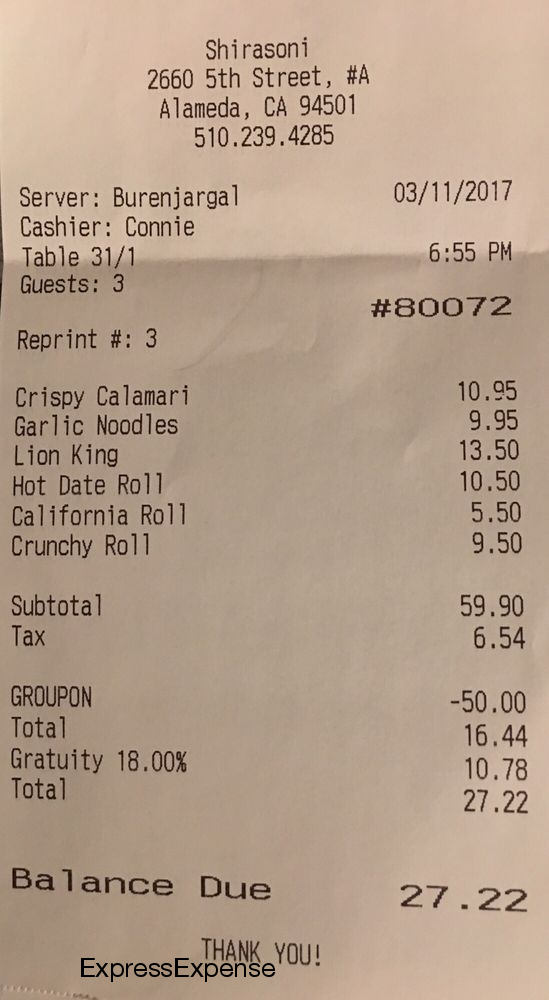Additional details: (198, 928, 323, 966)
Purchase summary: (3, 175, 549, 916)
Receipt: (1, 14, 547, 964)
Shop details: (128, 31, 392, 151)
